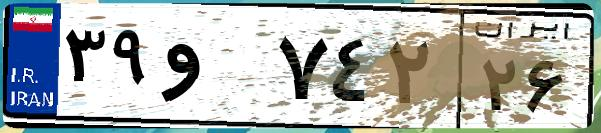2: (385, 28, 445, 110), (475, 38, 525, 113)
3: (57, 26, 110, 100)
4: (330, 28, 385, 110)
6: (525, 38, 570, 115)
7: (270, 28, 330, 110)
9: (110, 28, 158, 98)
و: (158, 20, 270, 120)
